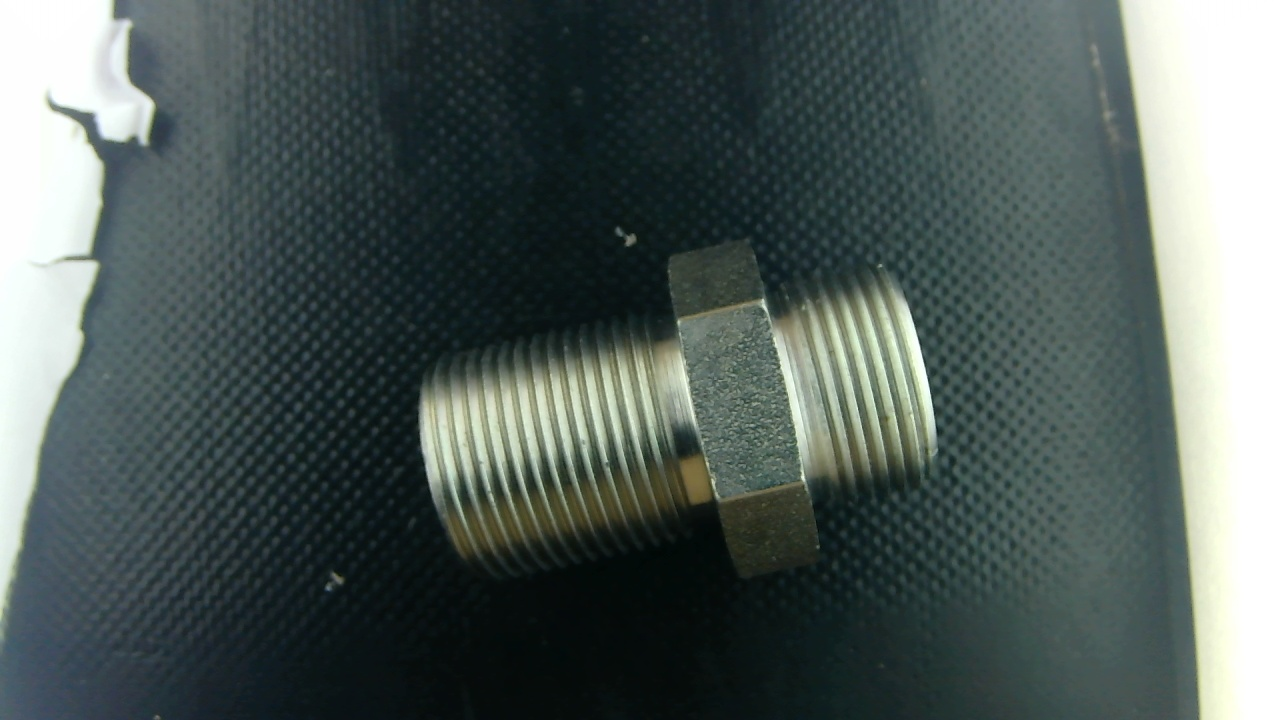okay_adapter: (418, 241, 936, 578)
